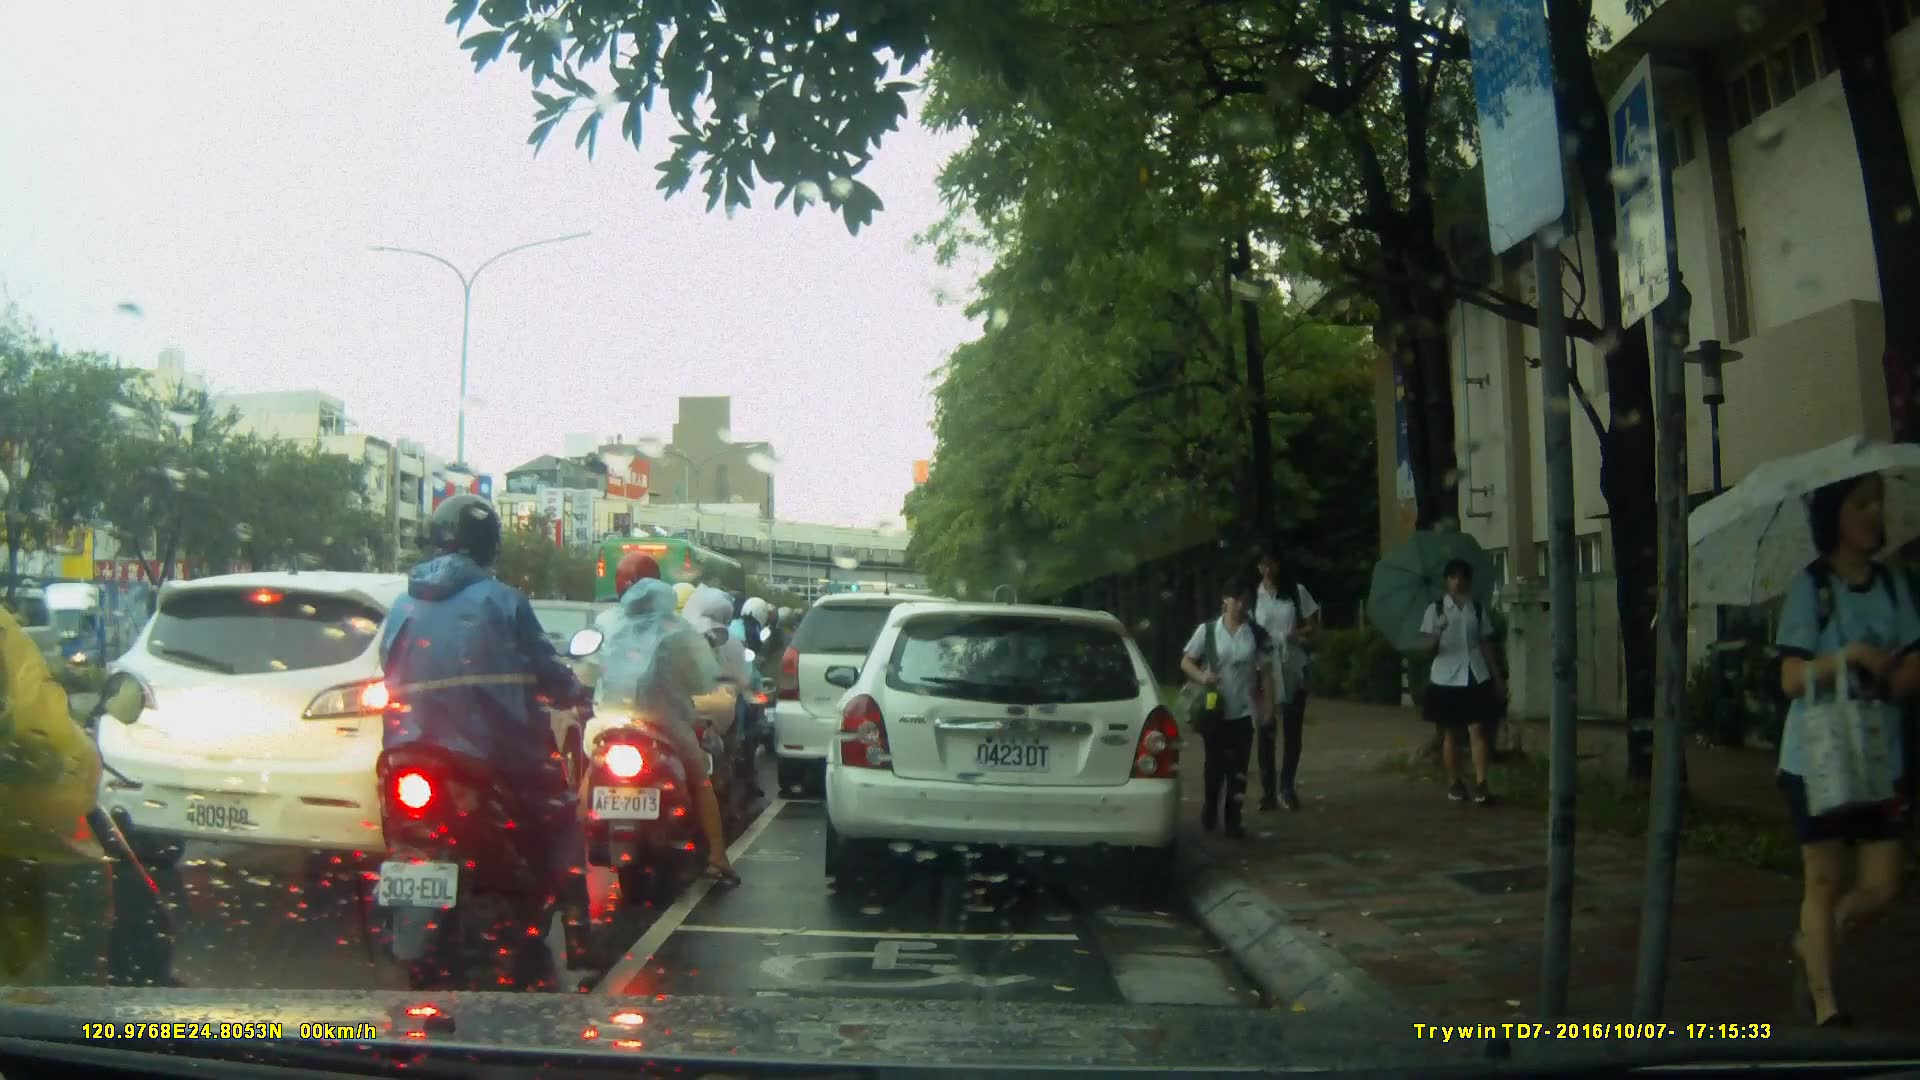pedestrian: (1729, 465, 1920, 1028), (1401, 550, 1505, 813), (1174, 572, 1279, 831), (1241, 542, 1336, 816)
rider: (1, 455, 181, 1080), (377, 488, 603, 979), (559, 553, 746, 907), (639, 577, 764, 825), (693, 594, 777, 778)
vehicle: (94, 569, 617, 883), (822, 604, 1187, 883), (774, 595, 995, 802), (20, 576, 199, 697), (595, 534, 764, 645)
